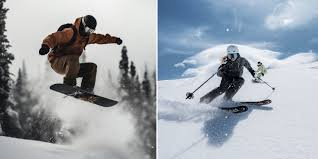snowboard: (47, 82, 120, 109)
